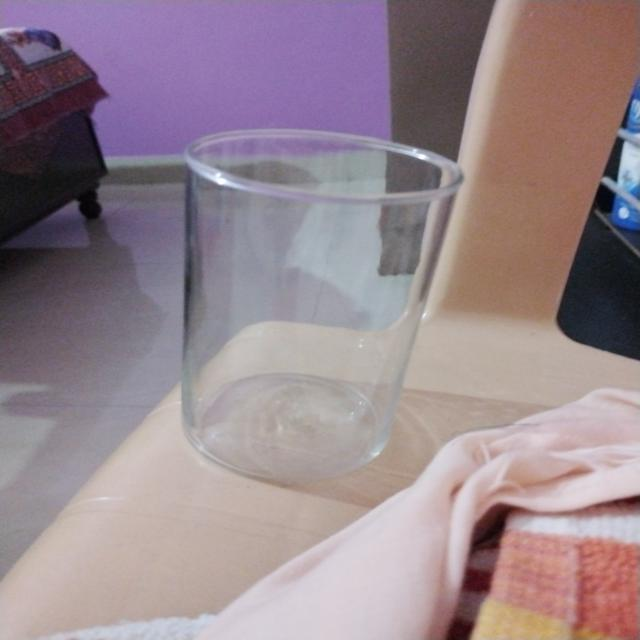Glass: (175, 124, 468, 486)
